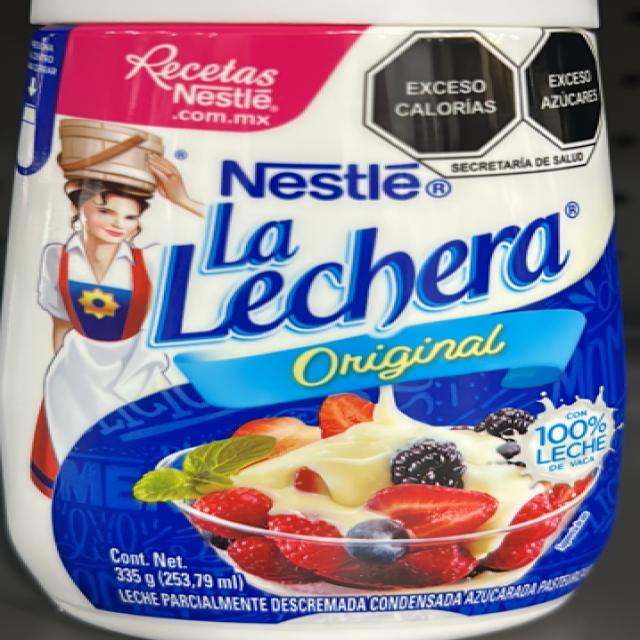nestleLechera: (32, 4, 621, 608)
